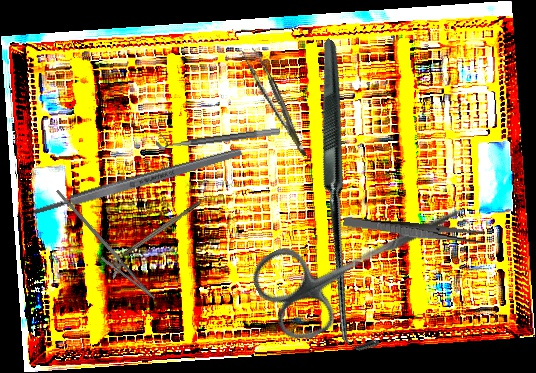Dressing Forceps: (342, 215, 486, 246)
Fixation Ring: (154, 117, 281, 151)
Hook Surgical: (188, 37, 508, 359), (107, 200, 202, 267)
Iris Scissors: (244, 163, 484, 351)
Needle Holder: (36, 188, 168, 309)
Scalpel Handle: (29, 145, 246, 219)
Tissue Forceps: (242, 44, 307, 163)
